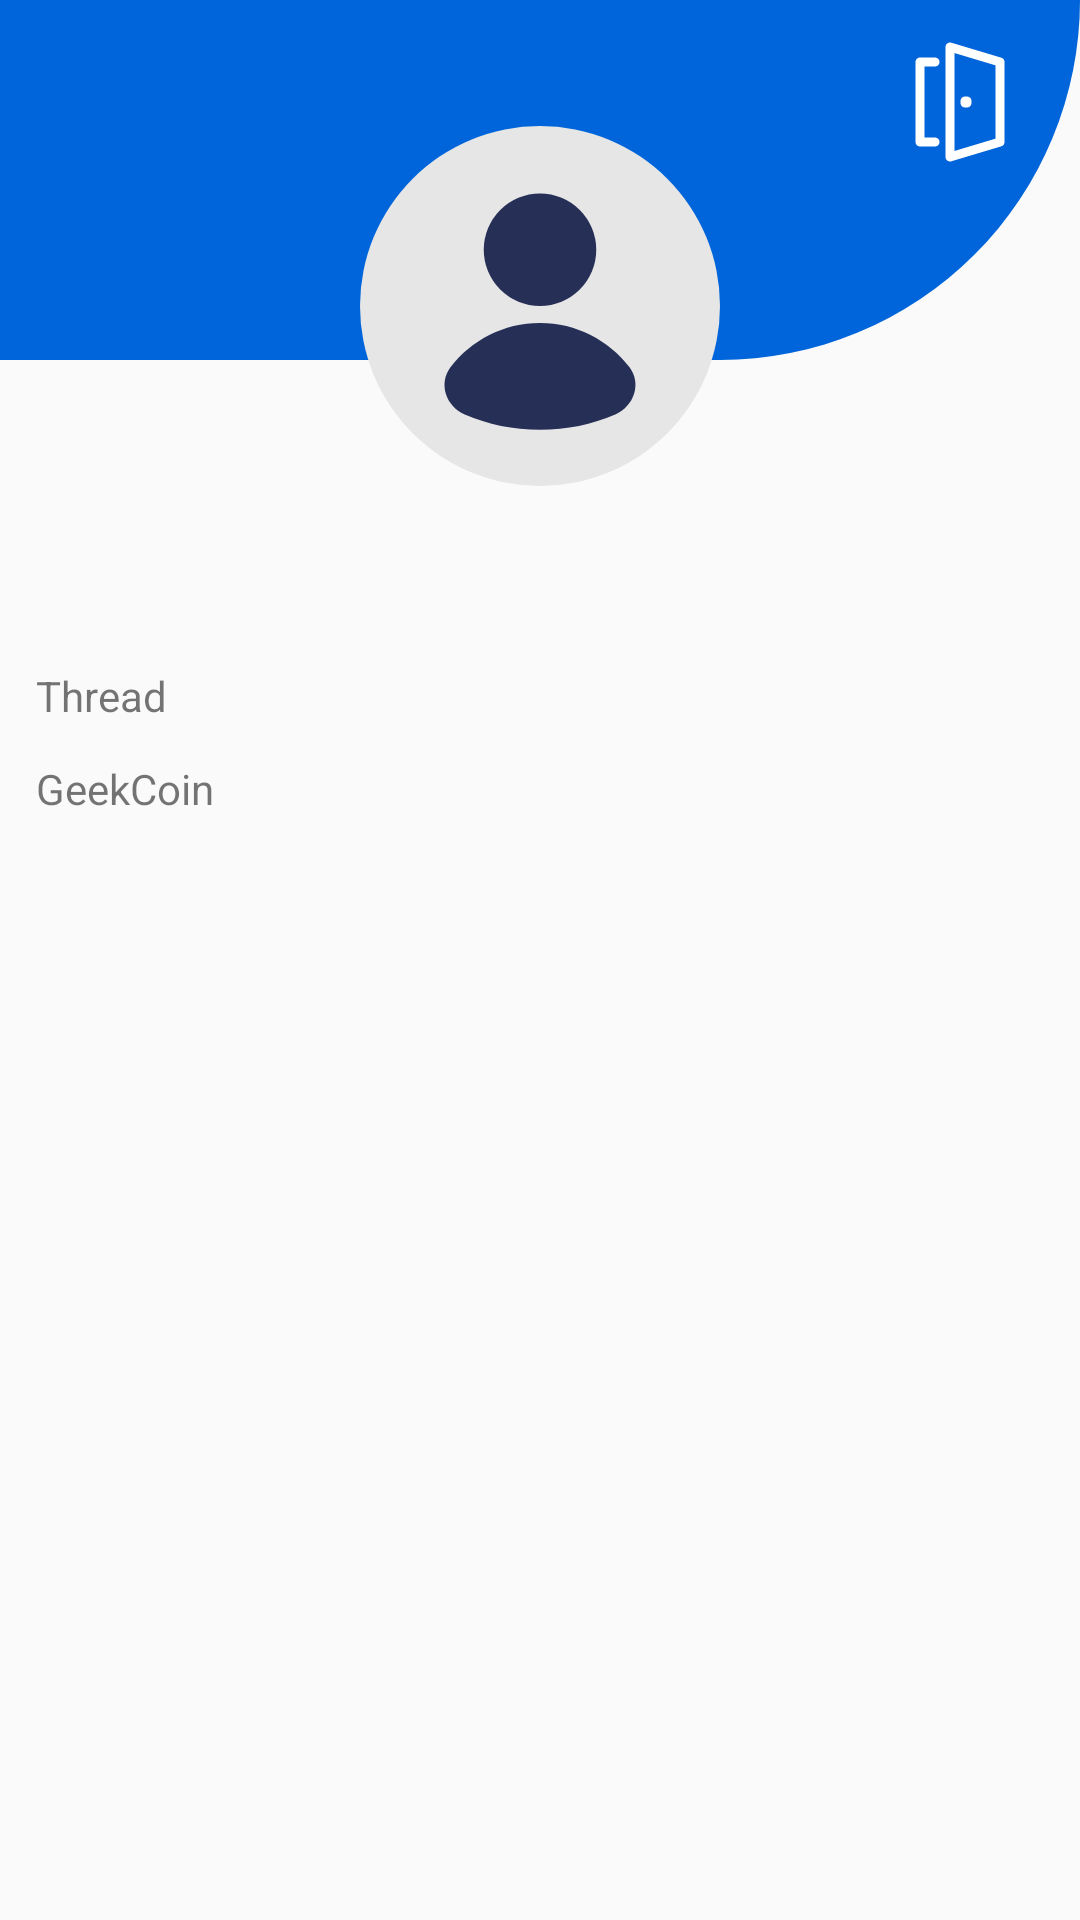

Screen size 1080×1920. Icon name, then its center in pixels as [x,y]:
log out: [960,102]
profile: [540,306]
